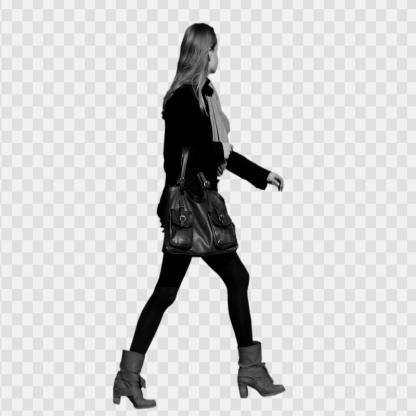jean: (116, 18, 296, 413)
